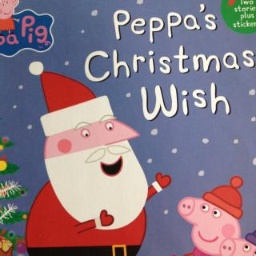Peppa: (175, 175, 246, 256)
